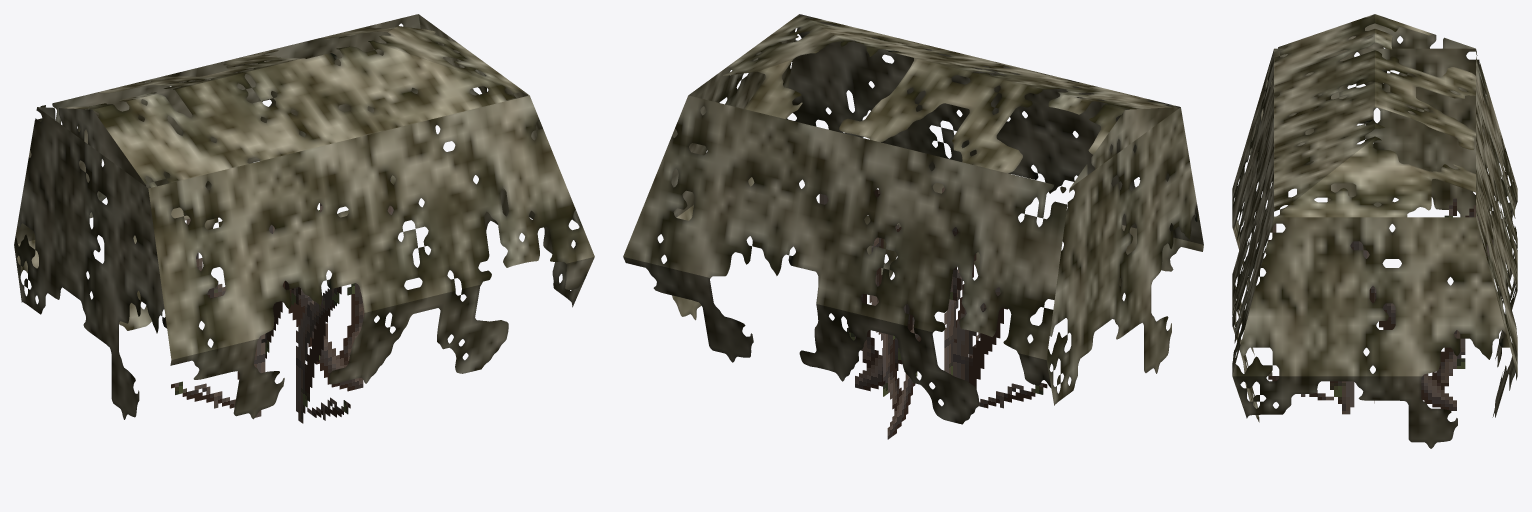
The model's file is bush_long_half_open_right_roots_dead.fbx.
3 renders of one model, left to right at view 1: azimuth 30°, elevation 25°; view 2: azimuth 150°, elevation 25°; view 3: azimuth 270°, elevation 25°, orthographic. The views are drawn at different scales.
Parts seen in each view (by area): view 1: bush_long_half_open_right_roots_dead; view 2: bush_long_half_open_right_roots_dead; view 3: bush_long_half_open_right_roots_dead.
Boxes of the visible parts, x1,y1,x2,y2 form: bush_long_half_open_right_roots_dead: (14,14,594,423); bush_long_half_open_right_roots_dead: (623,14,1203,439); bush_long_half_open_right_roots_dead: (1232,14,1517,448).
Bounding box in the file's own units: 112 × 87.65 × 71.91.
Materials: 2 (2 with a texture image).
